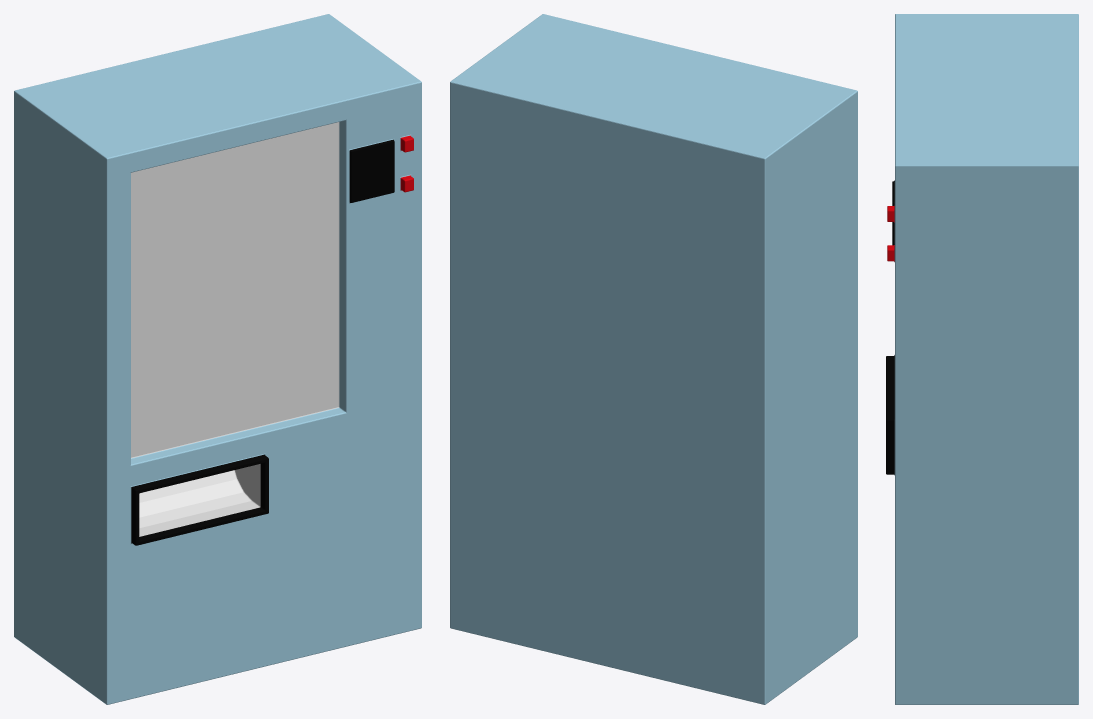
The model's file is machine.fbx.
3 renders of one model, left to right at view 1: azimuth 30°, elevation 25°; view 2: azimuth 150°, elevation 25°; view 3: azimuth 270°, elevation 25°, orthographic.
Parts seen in each view (by area): view 1: Machine; view 2: Machine; view 3: Machine.
Boxes of the visible parts, <box> form: Machine: <box>14,14,421,704</box>; Machine: <box>450,14,857,704</box>; Machine: <box>886,14,1078,704</box>.
Size of the model in its own units: 150 by 249 by 80.59.
